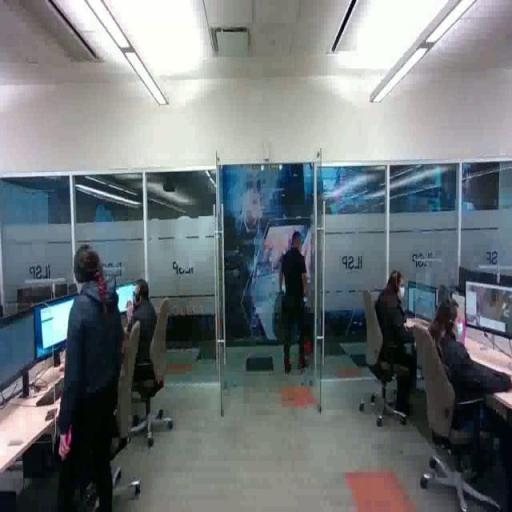person: (61, 242, 126, 512), (277, 234, 311, 375)
